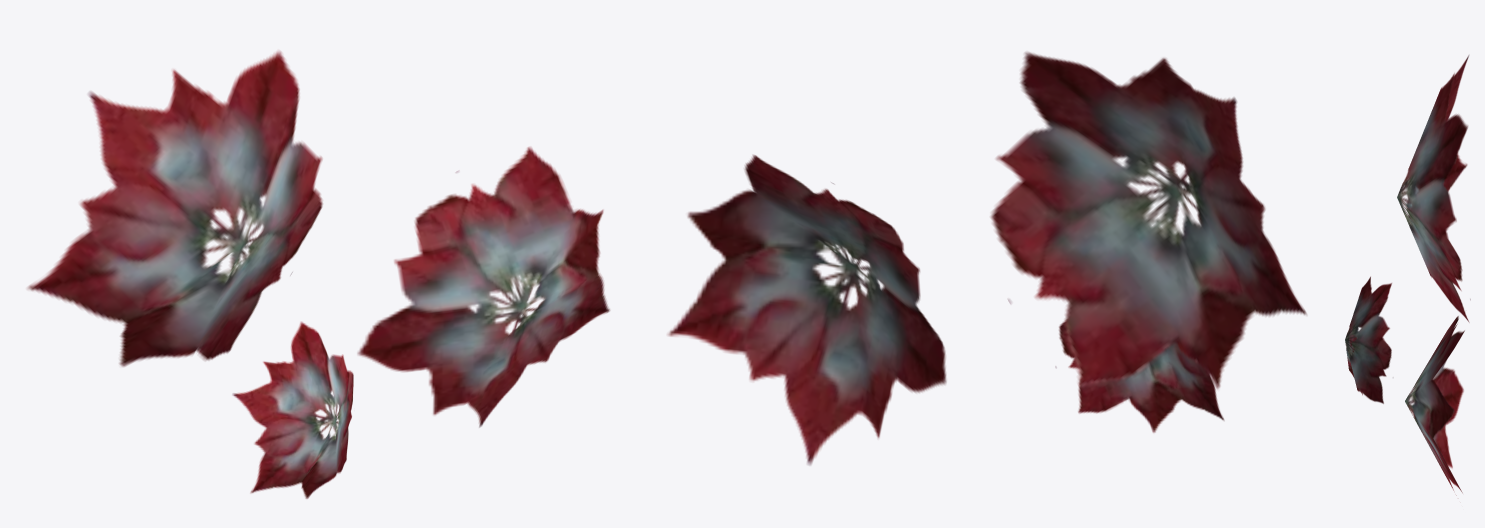
3 views of the same model, side by side, from view 1: azimuth 30°, elevation 25°; view 2: azimuth 150°, elevation 25°; view 3: azimuth 270°, elevation 25° (orthographic). The views are drawn at different scales.
Parts seen in each view (by area): view 1: model_Object16; view 2: model_Object16; view 3: model_Object16.
Boxes of the visible parts, x1=… form: model_Object16: x1=27, y1=51, x2=609, y2=498; model_Object16: x1=667, y1=52, x2=1306, y2=465; model_Object16: x1=1345, y1=55, x2=1470, y2=495.
Size of the model in its own units: 2.19 by 1.82 by 0.5328.
1 material, 1 textured.
